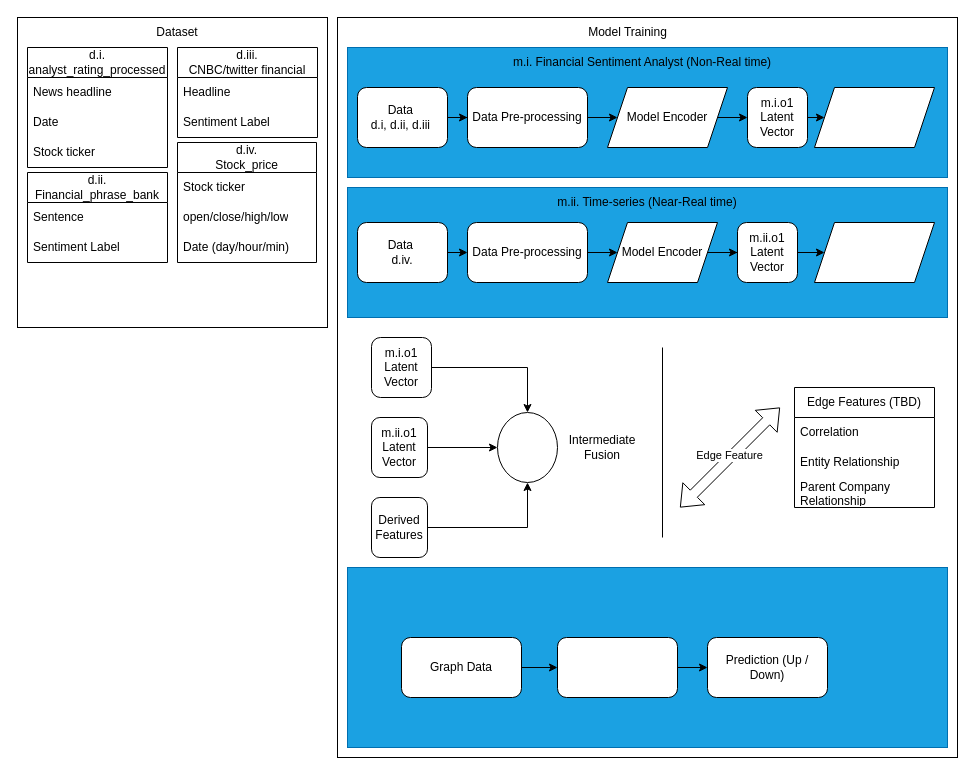
Some shapes in this 975 by 775 pixel diagram are drawn without their labels. The centre of each missing label's shape, as x and y in pixels:
Classifier Head: [874,117]
Graph Model: [617,667]
Node Features: [527,447]
Regression Head: [874,252]
